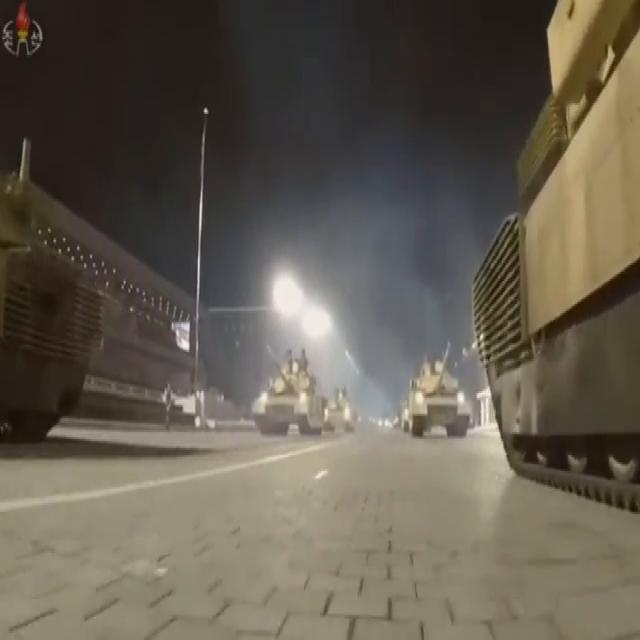north tank: (237, 313, 361, 454), (400, 320, 469, 446)
